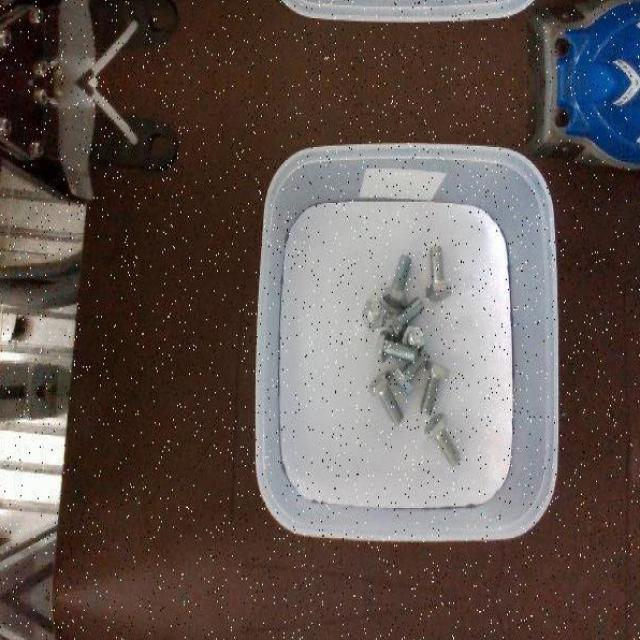screw: (423, 412, 461, 467), (368, 371, 404, 426), (420, 358, 450, 414), (384, 296, 424, 338), (383, 254, 412, 306), (425, 246, 451, 302), (376, 330, 418, 364), (361, 296, 384, 328)
